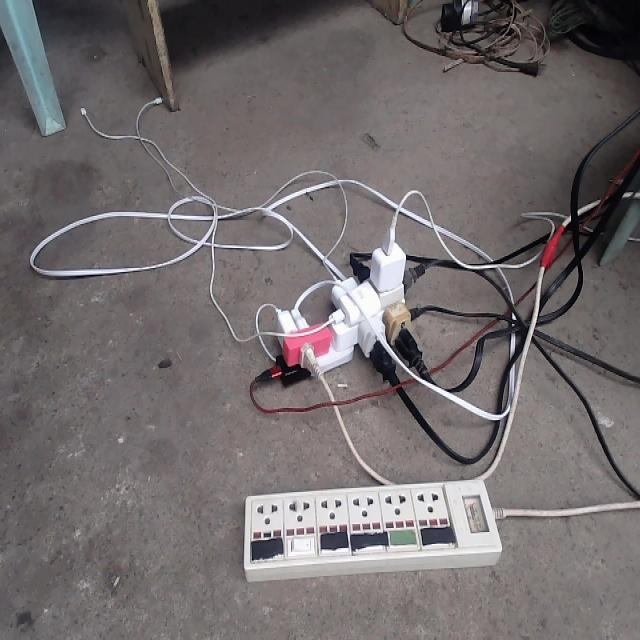-: (257, 235, 430, 388)
